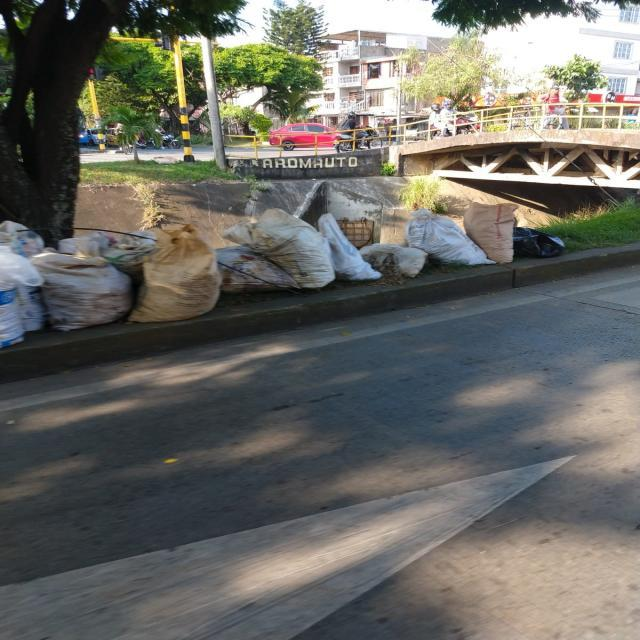high trash: (0, 201, 564, 347)
